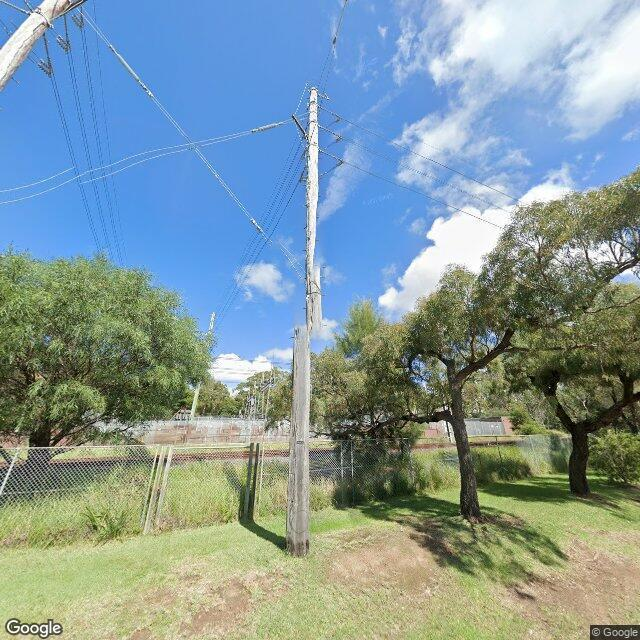HV-transmission: (0, 0, 84, 78), (291, 92, 342, 182)
timber-pole: (288, 87, 319, 558), (0, 0, 78, 93)
